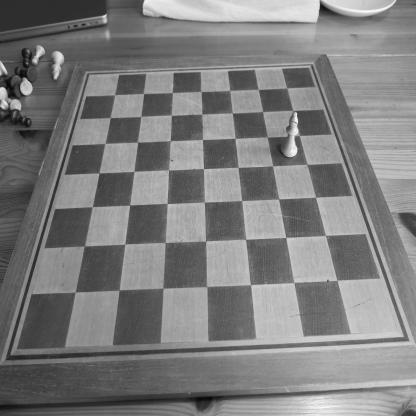black-pawn: (9, 108, 32, 128), (21, 46, 32, 68)
white-bishop: (279, 111, 299, 159), (50, 50, 65, 82)
white-pawn: (31, 44, 46, 66)
